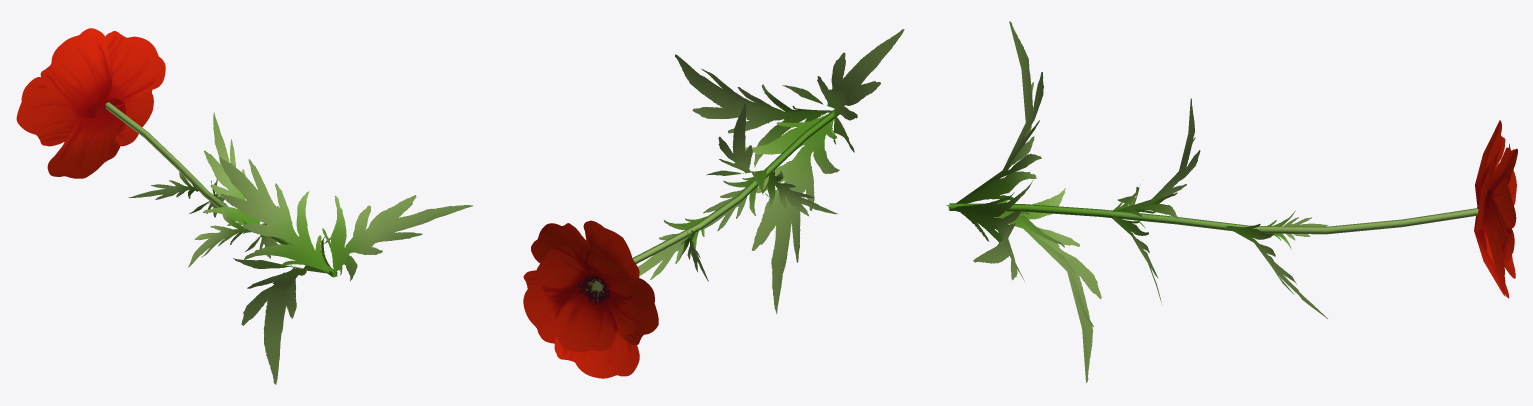
File: Poppy xrotate.fbx
3 views of the same model, side by side, from view 1: azimuth 30°, elevation 25°; view 2: azimuth 150°, elevation 25°; view 3: azimuth 270°, elevation 25° (orthographic). The views are drawn at different scales.
Parts seen in each view (by area): view 1: poppy leaf.017; view 2: poppy leaf.017; view 3: poppy leaf.017.
Boxes of the visible parts, x1=… form: poppy leaf.017: x1=16, y1=28, x2=473, y2=384; poppy leaf.017: x1=523, y1=29, x2=904, y2=378; poppy leaf.017: x1=946, y1=21, x2=1517, y2=382.
Size of the model in its own units: 61.9 by 63.75 by 95.29.
